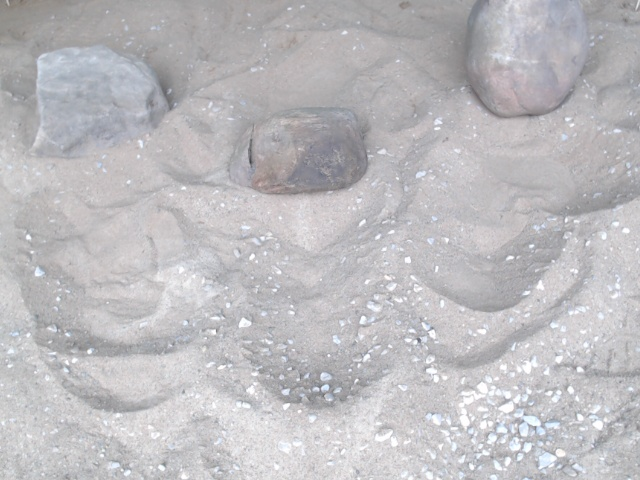rock: (22, 39, 176, 164), (458, 1, 594, 124), (223, 102, 373, 201)
